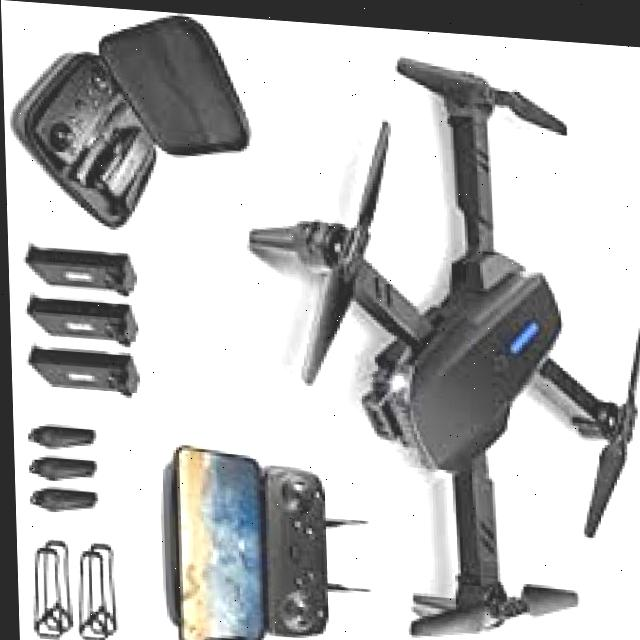drone: (236, 14, 640, 640)
